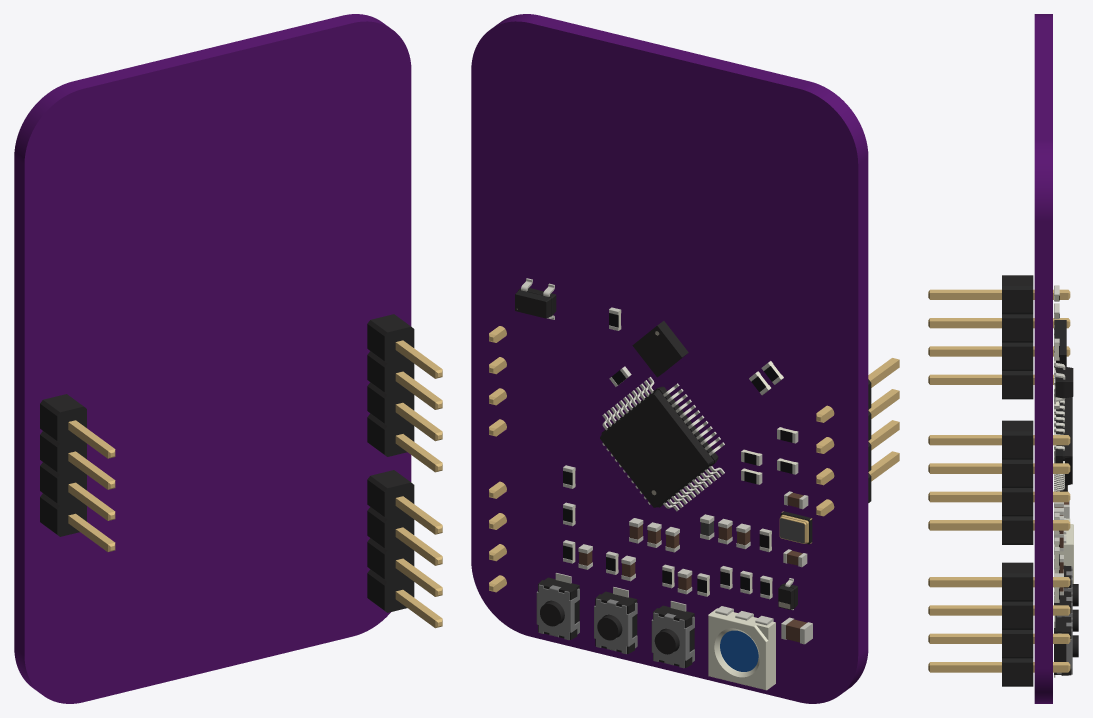
Rendered from BasicBoard.glb.
3 renders of one model, left to right at view 1: azimuth 30°, elevation 25°; view 2: azimuth 150°, elevation 25°; view 3: azimuth 270°, elevation 25°, orthographic. The views are drawn at different scales.
Visible parts, largest first — view 1: =>[0:1:1:14], J3, J1, J2; view 2: =>[0:1:1:14], U3, D3, J2, SW2, SW3, SW1, U2, U4, Y1, J1, J3 (+1 smaller); view 3: =>[0:1:1:14], J1, J3, J2, U3, SW3, U4, U2, D3, SW2, SW1.
Part boxes in pixels (x1,y1,x2,y2): =>[0:1:1:14]: (14,14,411,703); J3: (367,470,442,628); J1: (367,314,442,472); J2: (40,394,115,551); =>[0:1:1:14]: (471,14,868,703); U3: (600,377,724,511); D3: (708,606,775,690); J2: (816,358,899,516); SW2: (594,587,637,654); SW3: (536,573,579,640); SW1: (651,601,694,668); U2: (632,321,688,377); U4: (515,278,556,319); Y1: (779,511,812,544); J1: (489,326,506,436); J3: (489,481,506,592); =>[0:1:1:14]: (1034,14,1052,703); J1: (928,420,1070,544); J3: (928,562,1070,686); J2: (928,275,1070,399); U3: (1054,368,1072,491); SW3: (1054,615,1078,677); U4: (1054,360,1073,404); U2: (1054,320,1066,367); D3: (1059,518,1073,583); SW2: (1054,591,1078,631); SW1: (1063,565,1078,606).
Size of the model in its own units: 0.033 by 0.05 by 0.0122.
